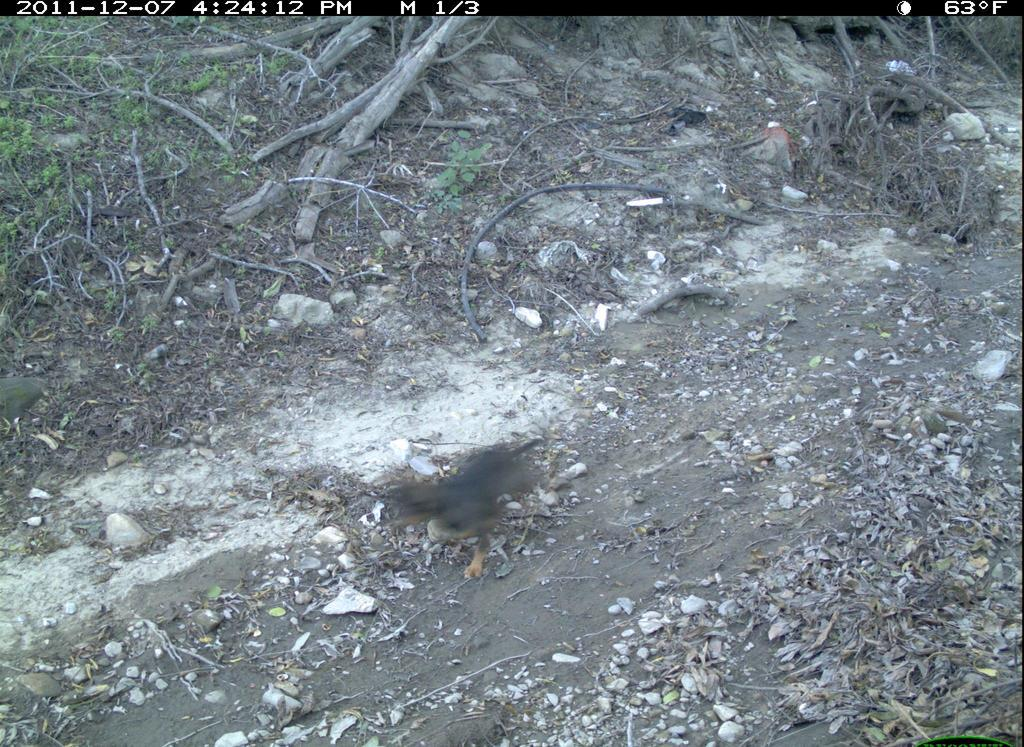dog: (360, 437, 583, 587)
